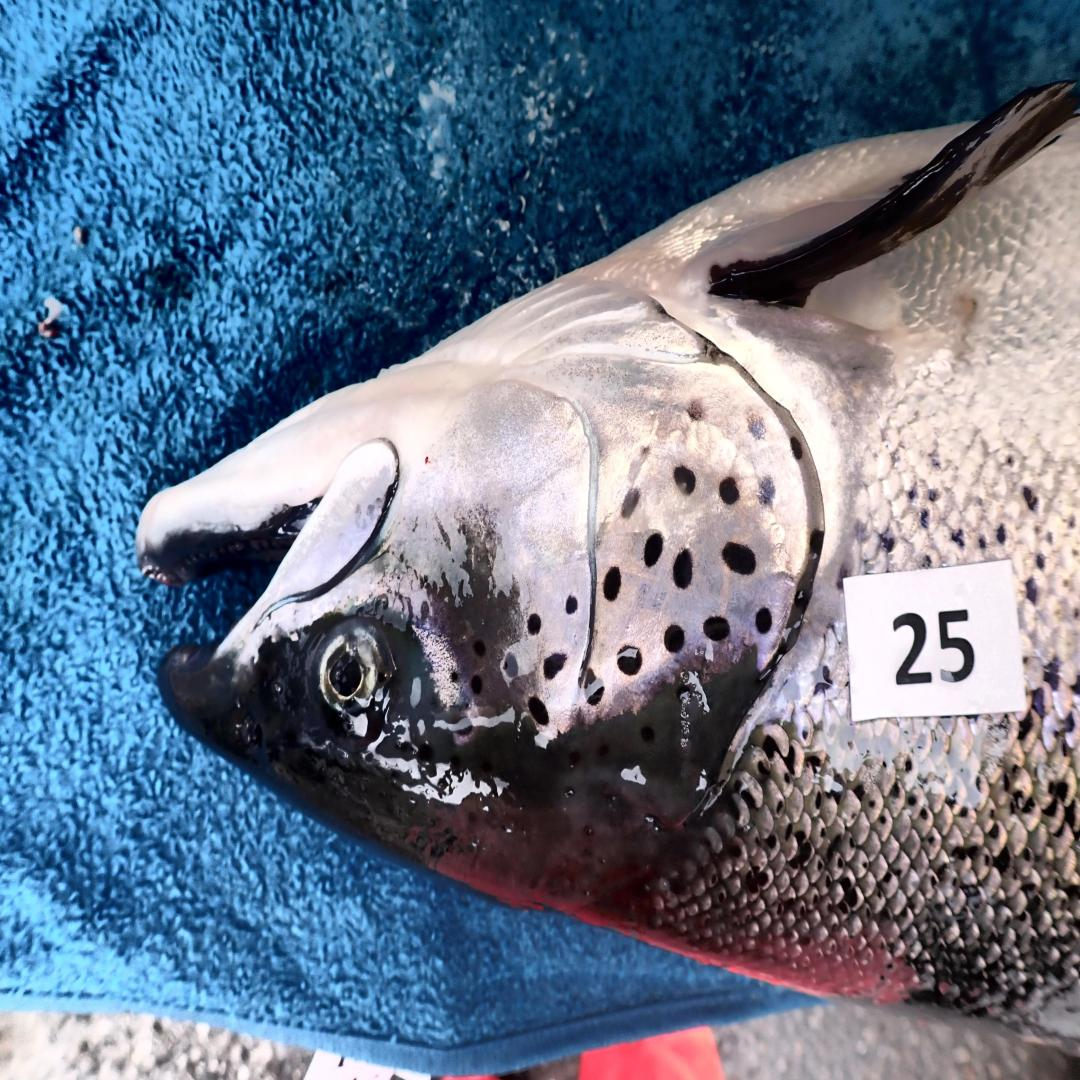spot: (675, 387, 720, 434), (721, 543, 755, 574), (673, 548, 692, 588), (584, 672, 603, 706), (673, 467, 696, 495), (618, 647, 641, 675), (603, 565, 620, 602), (643, 532, 662, 565), (705, 616, 730, 641), (544, 652, 565, 681), (757, 475, 776, 506), (527, 698, 548, 726), (620, 489, 639, 518), (664, 624, 683, 652), (719, 478, 738, 503), (809, 529, 825, 557), (755, 608, 772, 633), (749, 416, 766, 439), (504, 652, 519, 678), (527, 613, 542, 636), (790, 437, 802, 460), (470, 675, 483, 695), (565, 596, 578, 613), (472, 638, 485, 655), (641, 444, 650, 458), (450, 671, 458, 682)
